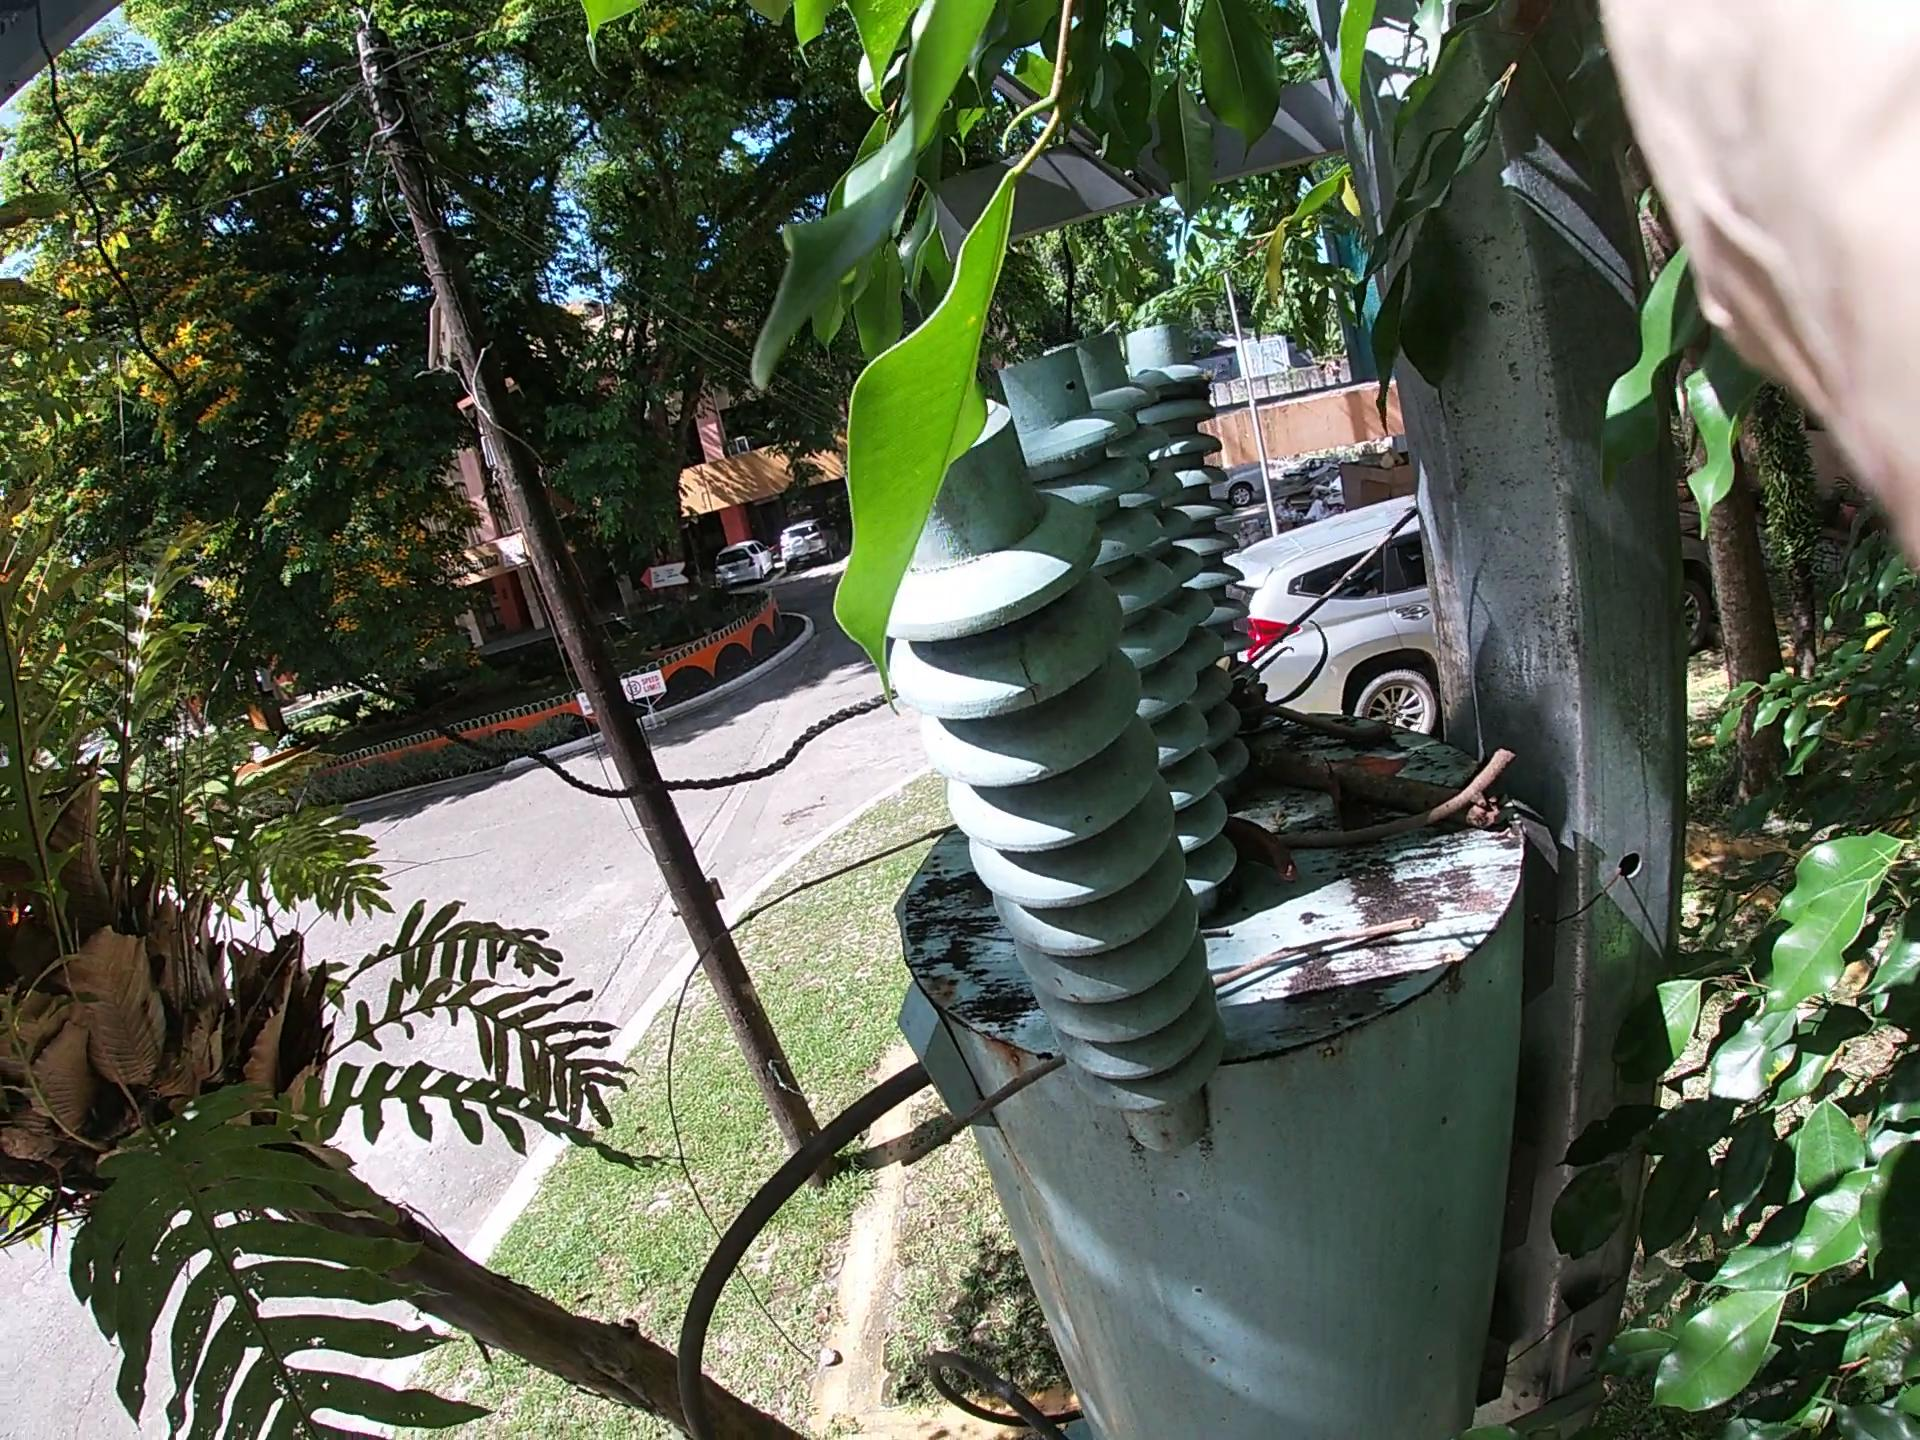leaf: (1285, 765, 1394, 836)
mahogany fruit: (1250, 635, 1435, 774)
tree branch: (478, 498, 1401, 1284), (853, 764, 1519, 1180), (1279, 690, 1581, 862), (1222, 755, 1583, 852)
